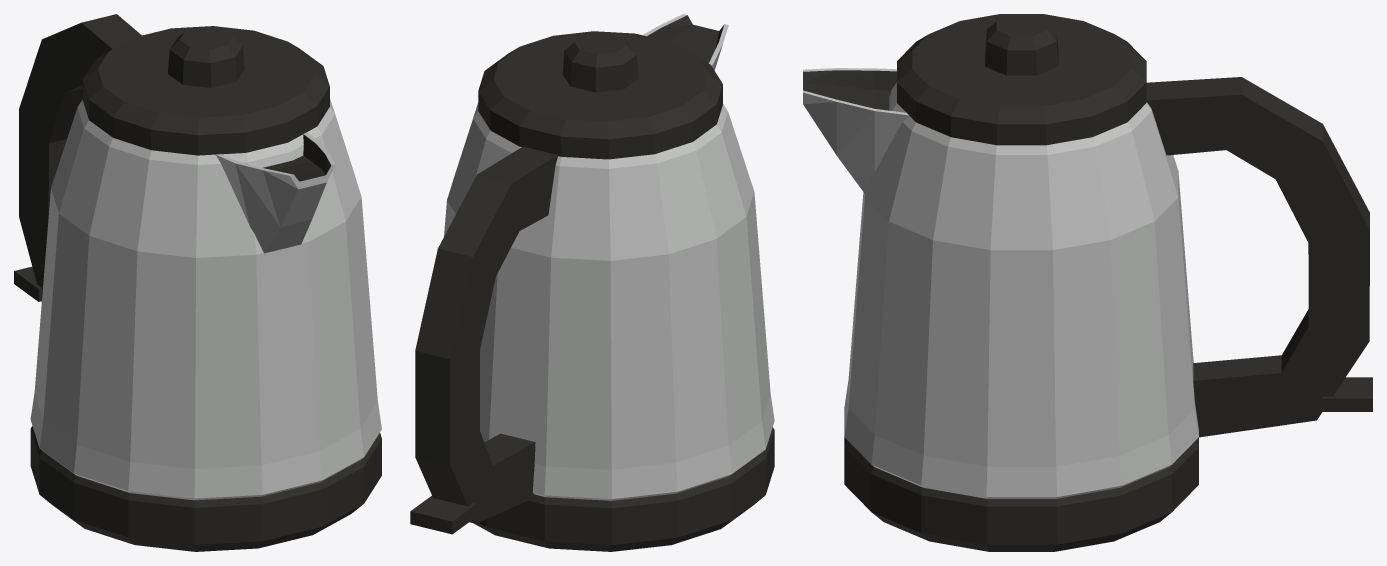
The model's file is SM_Cook_ElectricKettle_01.fbx.
3 views of the same model, side by side, from view 1: azimuth 30°, elevation 25°; view 2: azimuth 150°, elevation 25°; view 3: azimuth 270°, elevation 25° (orthographic). The views are drawn at different scales.
Parts seen in each view (by area): view 1: SM_Cook_ElectricKettle_01; view 2: SM_Cook_ElectricKettle_01; view 3: SM_Cook_ElectricKettle_01.
Part boxes in pixels (x1,y1,x2,y2): SM_Cook_ElectricKettle_01: [14, 14, 381, 551]; SM_Cook_ElectricKettle_01: [410, 14, 774, 551]; SM_Cook_ElectricKettle_01: [803, 14, 1372, 551].
Size of the model in its own units: 0.1687 by 0.24 by 0.271.
Materials: 1 (1 with a texture image).
